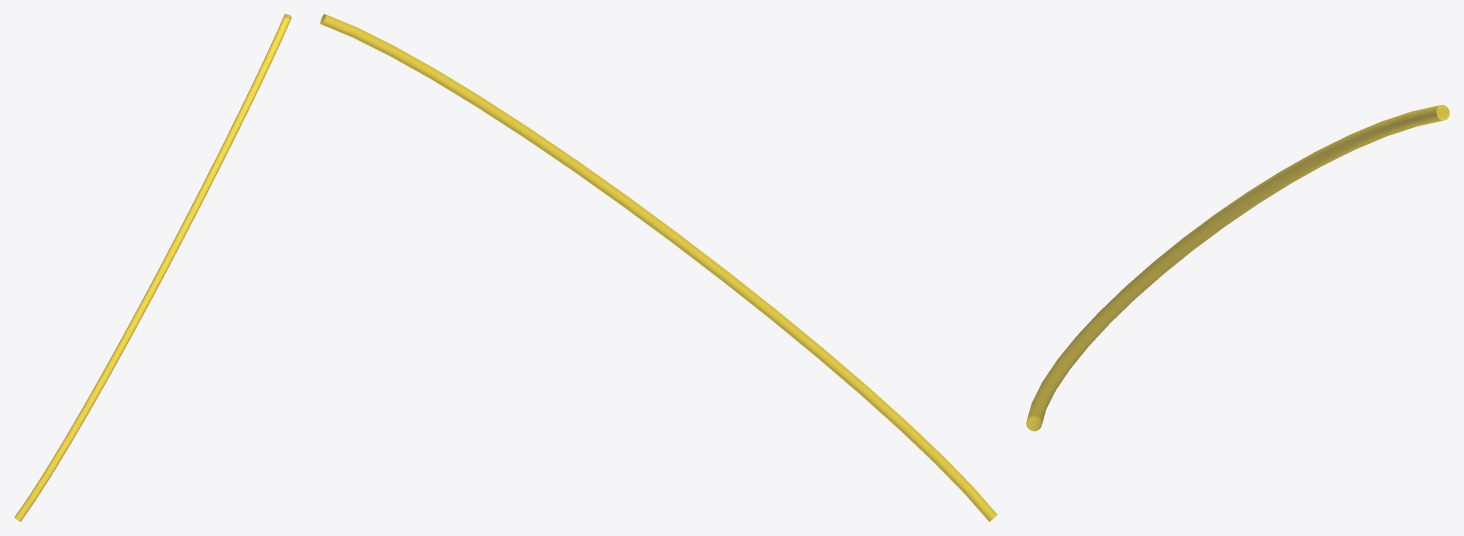
The model's file is Event_100608114_track_12.fbx.
3 renders of one model, left to right at view 1: azimuth 30°, elevation 25°; view 2: azimuth 150°, elevation 25°; view 3: azimuth 270°, elevation 25°, orthographic. The views are drawn at different scales.
Parts seen in each view (by area): view 1: Model; view 2: Model; view 3: Model.
Boxes of the visible parts, left/top/right/bottom form: Model: left=14, top=14, right=291, bottom=521; Model: left=320, top=14, right=997, bottom=521; Model: left=1026, top=104, right=1449, bottom=431.
Size of the model in its own units: 2.19 by 1.9 by 1.06.
